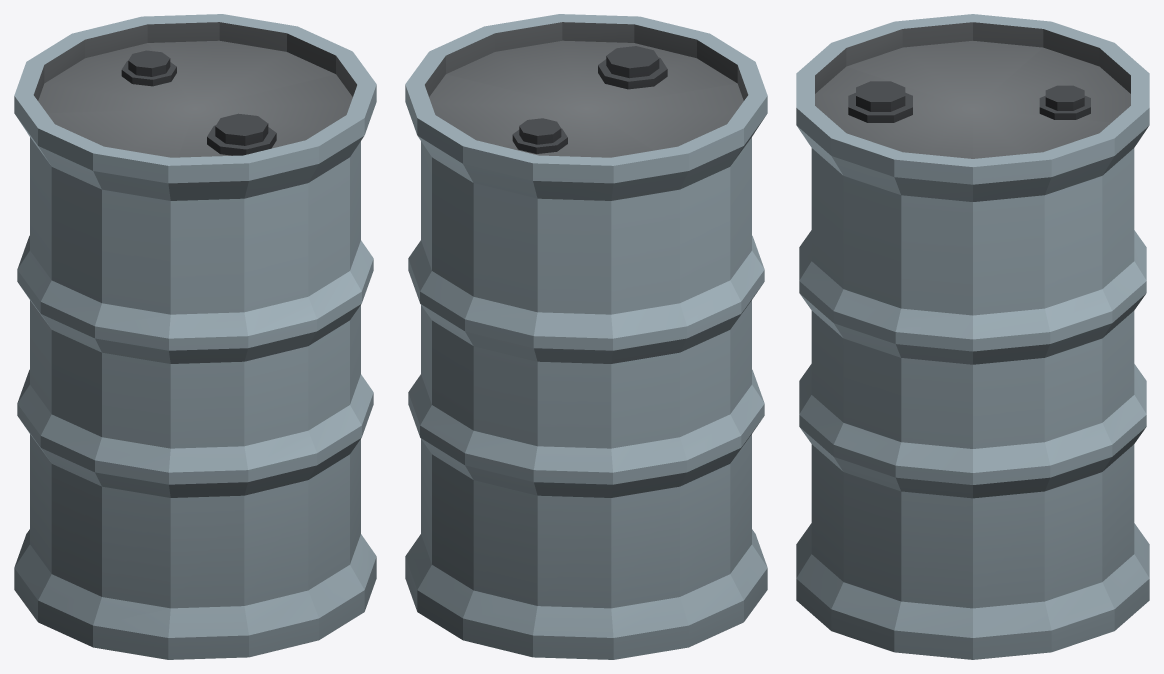
The model's file is drum.glb.
3 views of the same model, side by side, from view 1: azimuth 30°, elevation 25°; view 2: azimuth 150°, elevation 25°; view 3: azimuth 270°, elevation 25° (orthographic).
Visible parts, largest first — view 1: drum.001; view 2: drum.001; view 3: drum.001.
Part boxes in pixels (<box>): drum.001: <box>14,14,376,659</box>; drum.001: <box>405,14,767,659</box>; drum.001: <box>796,14,1149,659</box>.
Size of the model in its own units: 0.6 by 0.9 by 0.585.
